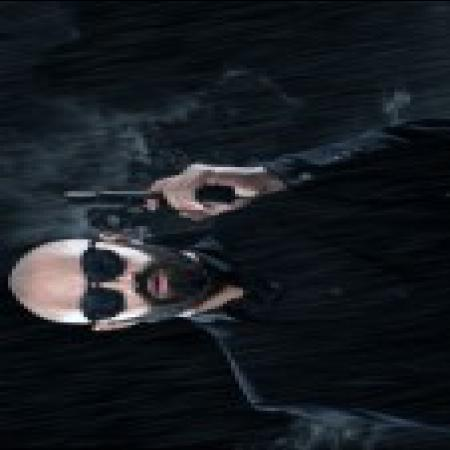Pistol: (48, 182, 235, 201)
